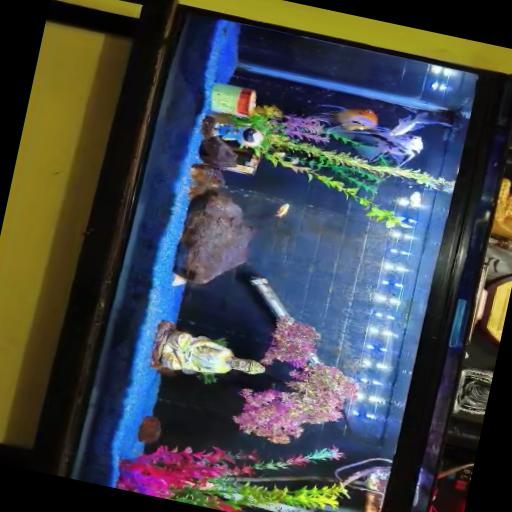Fish: (338, 127, 422, 166), (387, 107, 452, 136), (314, 104, 377, 130), (274, 204, 289, 217)
